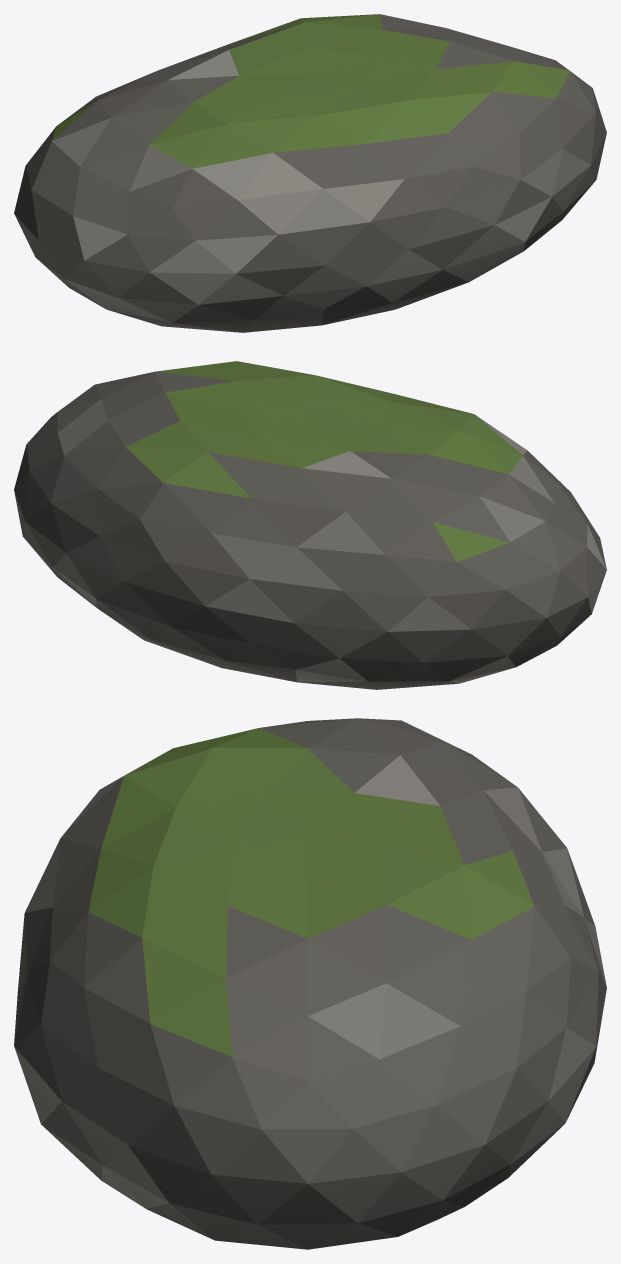
File: tiger_rock.glb
3 renders of one model, top to bottom at view 1: azimuth 30°, elevation 25°; view 2: azimuth 150°, elevation 25°; view 3: azimuth 270°, elevation 25°, orthographic. The views are drawn at different scales.
Bounding box in the file's own units: 2.93 × 0.9869 × 1.84.
